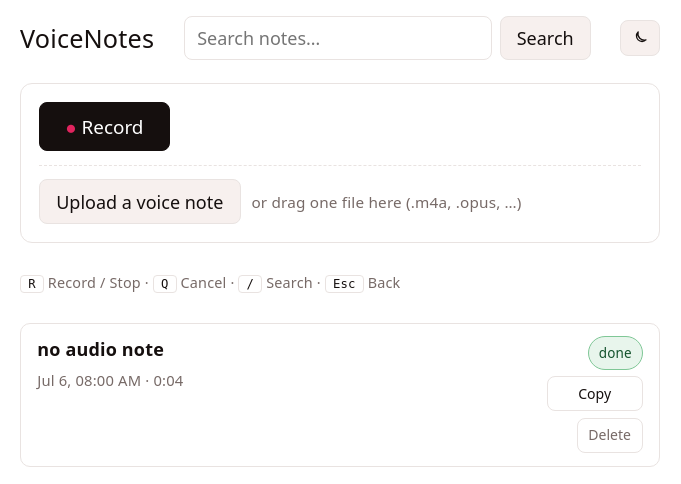
Test: a note without audio renders no playback-speed control
Click the button "no audio note": (101, 349) left=37, top=336, right=164, bottom=362
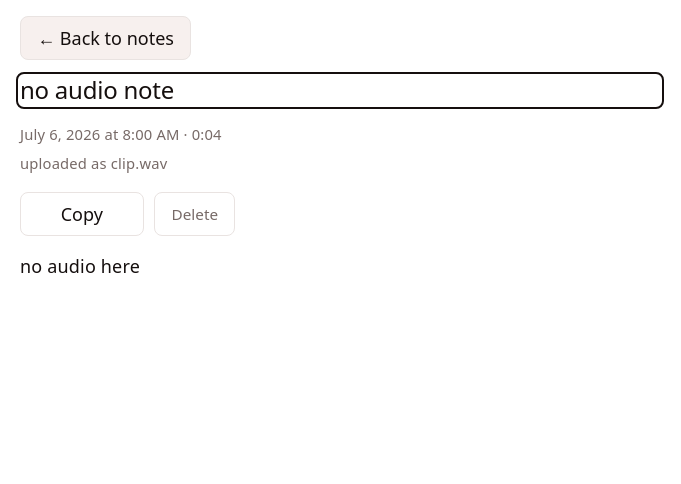
Now the text "no audio here" is shown, box left=20, top=254, right=140, bottom=278
